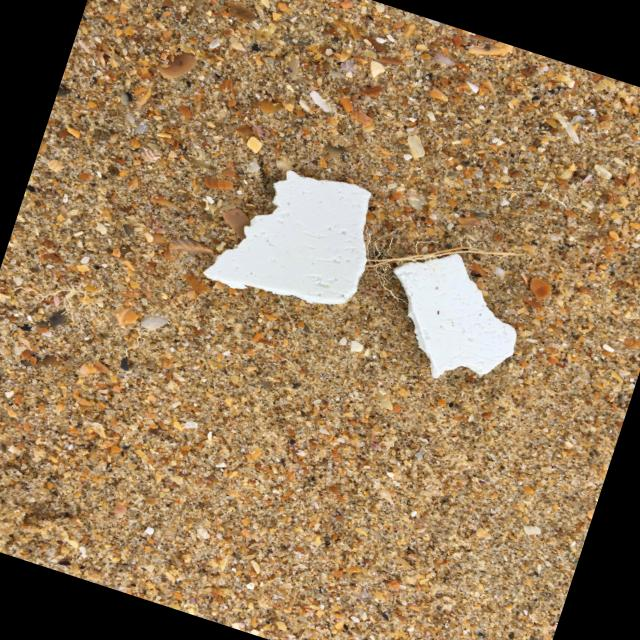less trash: (204, 172, 371, 305), (394, 255, 517, 378)
